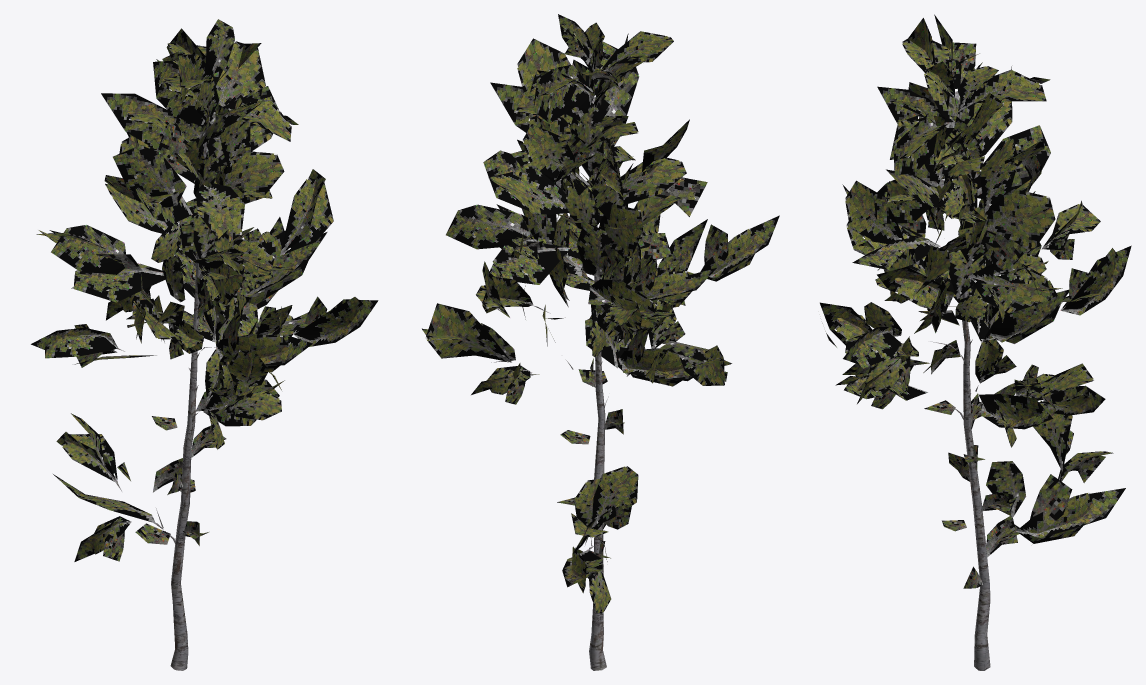
The model's file is birch_big_temp.glb.
3 views of the same model, side by side, from view 1: azimuth 30°, elevation 25°; view 2: azimuth 150°, elevation 25°; view 3: azimuth 270°, elevation 25° (orthographic).
Visible parts, largest first — view 1: birch_big_LOD0; view 2: birch_big_LOD0; view 3: birch_big_LOD0.
Boxes of the visible parts, box(x1,y1,x2,y2) form: birch_big_LOD0: box(31, 19, 378, 670); birch_big_LOD0: box(422, 14, 779, 670); birch_big_LOD0: box(820, 14, 1131, 670).
Bounding box in the file's own units: 11.35 × 25.21 × 11.55.
1 material, 1 textured.
